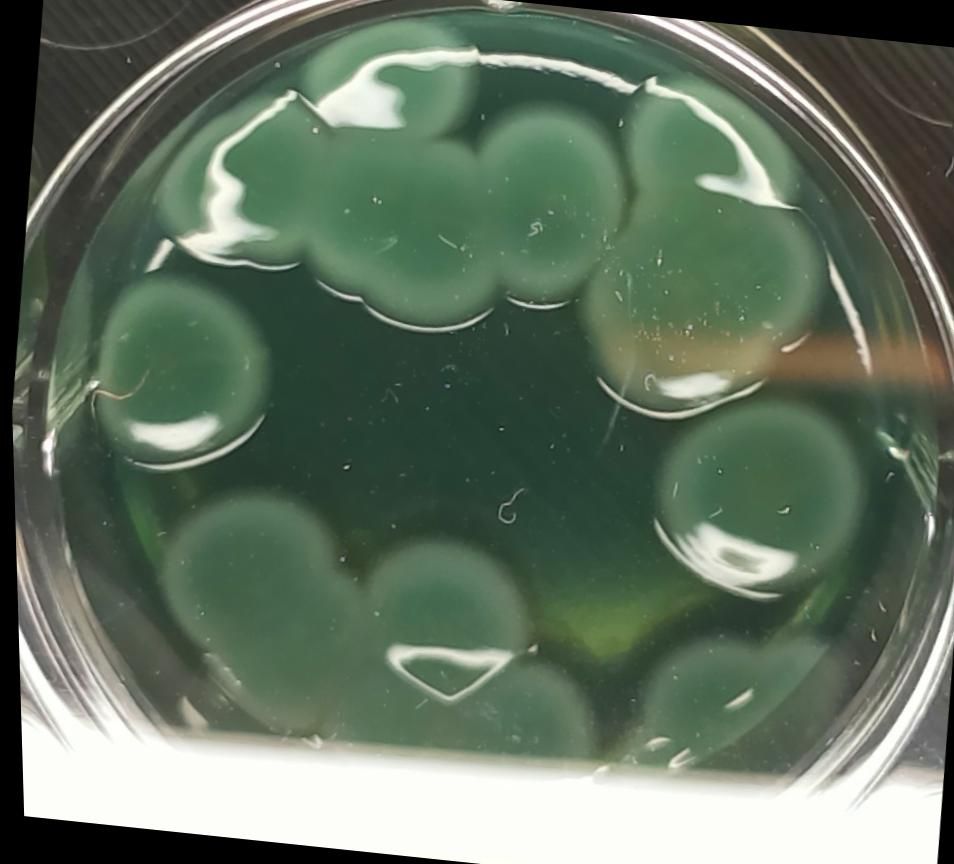valgino: (565, 67, 849, 442), (137, 78, 516, 338), (120, 451, 379, 734), (340, 520, 620, 770), (55, 256, 293, 490), (633, 375, 869, 604), (443, 93, 645, 327), (620, 606, 843, 782), (282, 1, 512, 158), (595, 56, 599, 65)
